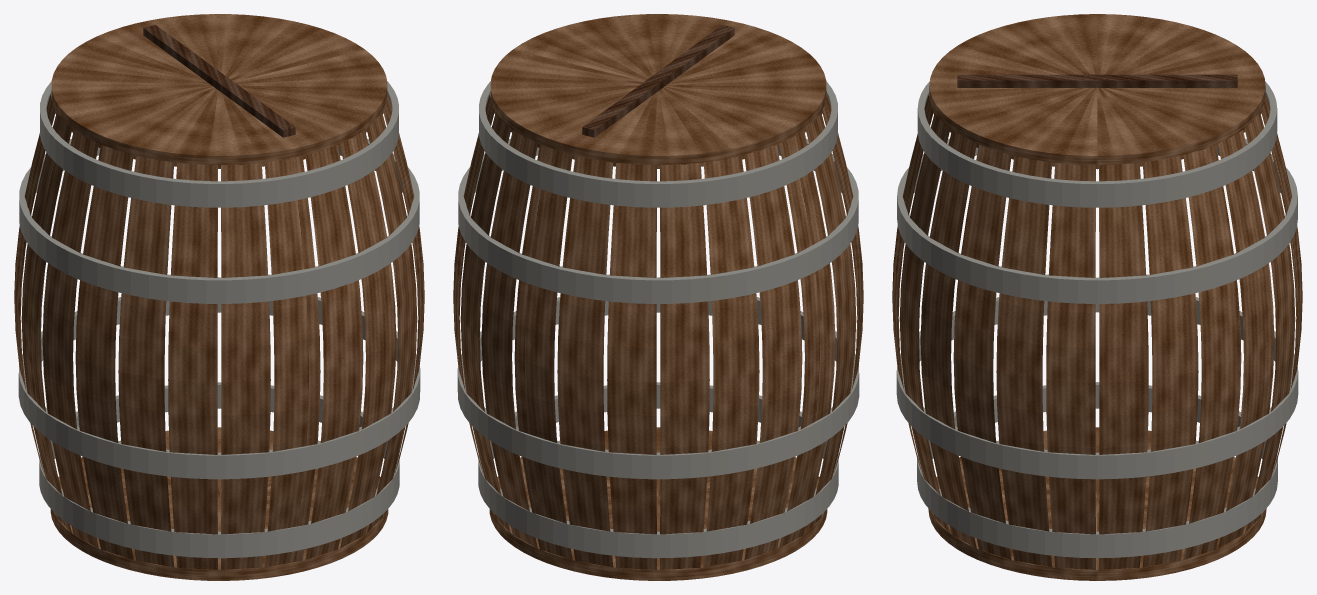
File: barrel_closed.glb
3 views of the same model, side by side, from view 1: azimuth 30°, elevation 25°; view 2: azimuth 150°, elevation 25°; view 3: azimuth 270°, elevation 25° (orthographic).
Parts seen in each view (by area): view 1: Barrel_Closed_028, Barrel_Closed_007, Barrel_Closed_008, Barrel_Closed_006, Barrel_Closed_009, Barrel_Closed_026, Barrel_Closed_005, Barrel_Closed_010, Barrel_Closed_025, Barrel_Closed_027, Barrel_Closed_024, Barrel_Closed_011 (+7 smaller); view 2: Barrel_Closed_028, Barrel_Closed_016, Barrel_Closed_015, Barrel_Closed_017, Barrel_Closed_014, Barrel_Closed_026, Barrel_Closed_018, Barrel_Closed_013, Barrel_Closed_025, Barrel_Closed_027, Barrel_Closed_024, Barrel_Closed_012 (+7 smaller); view 3: Barrel_Closed_028, Barrel_Closed_000, Barrel_Closed_023, Barrel_Closed_001, Barrel_Closed_022, Barrel_Closed_026, Barrel_Closed_002, Barrel_Closed_021, Barrel_Closed_025, Barrel_Closed_027, Barrel_Closed_024, Barrel_Closed_003 (+7 smaller).
Boxes of the visible parts, x1,y1,x2,y2 form: Barrel_Closed_028: [51, 14, 387, 168]; Barrel_Closed_007: [221, 163, 270, 569]; Barrel_Closed_008: [168, 163, 217, 569]; Barrel_Closed_006: [264, 156, 320, 567]; Barrel_Closed_009: [118, 156, 174, 567]; Barrel_Closed_026: [19, 138, 419, 303]; Barrel_Closed_005: [305, 145, 363, 559]; Barrel_Closed_010: [75, 145, 133, 559]; Barrel_Closed_025: [18, 297, 420, 479]; Barrel_Closed_027: [40, 81, 398, 207]; Barrel_Closed_024: [39, 382, 399, 558]; Barrel_Closed_011: [42, 130, 98, 548]; Barrel_Closed_028: [490, 14, 826, 168]; Barrel_Closed_016: [607, 163, 656, 569]; Barrel_Closed_015: [660, 163, 709, 569]; Barrel_Closed_017: [557, 156, 613, 567]; Barrel_Closed_014: [703, 156, 759, 567]; Barrel_Closed_026: [458, 138, 858, 303]; Barrel_Closed_018: [514, 145, 572, 559]; Barrel_Closed_013: [744, 145, 802, 559]; Barrel_Closed_025: [457, 297, 859, 479]; Barrel_Closed_027: [479, 81, 837, 207]; Barrel_Closed_024: [478, 382, 838, 558]; Barrel_Closed_012: [779, 130, 835, 548]; Barrel_Closed_028: [929, 14, 1265, 169]; Barrel_Closed_000: [1046, 163, 1095, 569]; Barrel_Closed_023: [1099, 163, 1148, 569]; Barrel_Closed_001: [996, 156, 1052, 567]; Barrel_Closed_022: [1142, 156, 1198, 567]; Barrel_Closed_026: [897, 138, 1297, 303]; Barrel_Closed_002: [953, 145, 1011, 559]; Barrel_Closed_021: [1183, 145, 1241, 559]; Barrel_Closed_025: [896, 297, 1298, 479]; Barrel_Closed_027: [917, 81, 1277, 207]; Barrel_Closed_024: [917, 382, 1277, 558]; Barrel_Closed_003: [920, 130, 976, 548].
Size of the model in its own units: 0.85 by 0.987 by 0.85.
3 materials, 2 textured.
